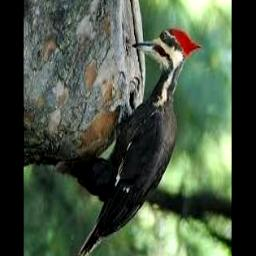Woodpecker: (77, 29, 202, 256)
